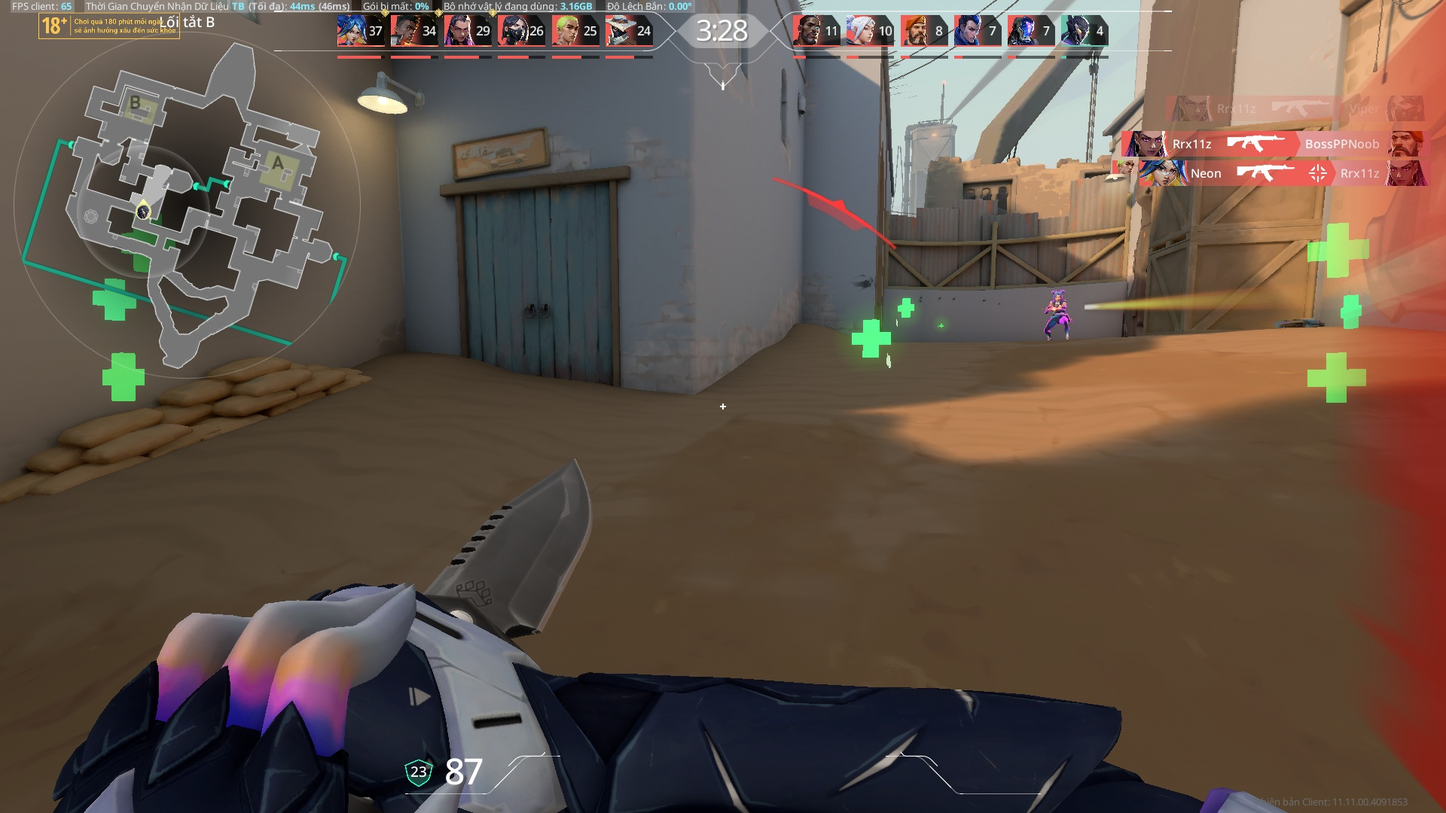body: (1048, 298, 1068, 318)
head: (1049, 289, 1064, 302)
